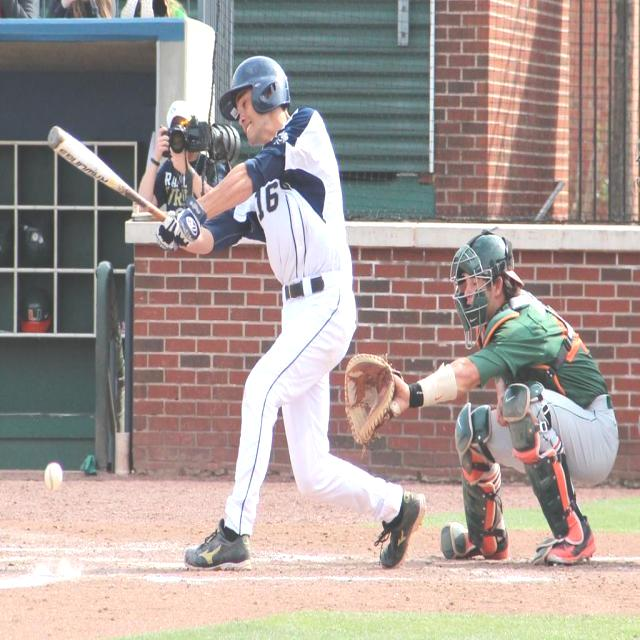baseball bat: (45, 126, 167, 220)
sports ball: (42, 461, 64, 491)
